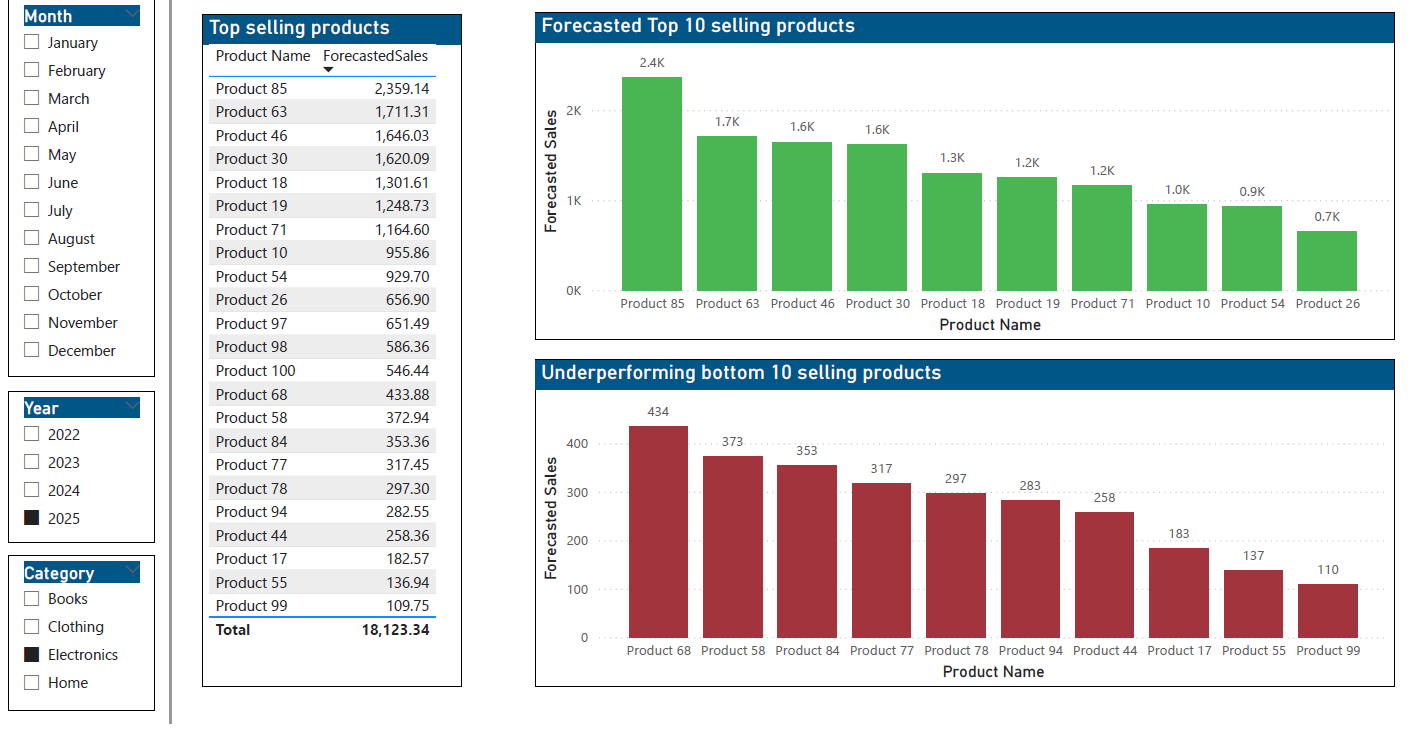

The dashboard page shown, as its layout file describes it:
{"tool":"powerbi","page":{"name":"Product Analysis","canvas":[1280,720],"ordinal":2},"visuals":[{"type":"shape","title":"Forecasting using Power BI","box":[0,0,1280.8,58.3],"z":0},{"type":"shape","box":[0,58.3,1280.8,14.6],"z":1000},{"type":"shape","box":[142.5,72.9,30.8,647.7],"z":2000},{"type":"slicer","fields":{"Values":["DateTable.Date.Variation.Date Hierarchy.Month"]},"box":[13,72.9,131.2,338.4],"z":3000},{"type":"slicer","fields":{"Values":["DateTable.Year"]},"box":[13,422.6,131.2,136],"z":4000},{"type":"slicer","fields":{"Values":["Products.Category"]},"box":[13,570,131.2,139.3],"z":6000},{"type":"columnChart","title":"Forecasted Top 10 selling products","fields":{"Category":["Products.ProductName"],"Y":["Sales.ForecastedSales"]},"box":[483.1,85.3,767.5,293.1],"z":7000},{"type":"columnChart","title":"Underperforming bottom 10 selling products","fields":{"Category":["Products.ProductName"],"Y":["Sales.ForecastedSales"]},"box":[483.1,394.6,767.5,293.1],"z":8000},{"type":"tableEx","title":"Top selling products","fields":{"Values":["Products.ProductName","Sales.ForecastedSales"]},"box":[186.2,87.4,231.5,600.7],"z":9000}]}

Visuals, with their boxes on the page's 1280x720 design canvas (x1, y1, x2, y2). These are canvas units, not pixel positions in the 1408x733 screenshot, which may show the page scaled, cropped or inside an application window:
"Forecasting using Power BI" shape: <bbox>0, 0, 1281, 58</bbox>
shape: <bbox>0, 58, 1281, 73</bbox>
shape: <bbox>142, 73, 173, 721</bbox>
slicer - DateTable.Date.Variation.Date Hierarchy.Month: <bbox>13, 73, 144, 411</bbox>
slicer - DateTable.Year: <bbox>13, 423, 144, 559</bbox>
slicer - Products.Category: <bbox>13, 570, 144, 709</bbox>
"Forecasted Top 10 selling products" columnChart: <bbox>483, 85, 1251, 378</bbox>
"Underperforming bottom 10 selling products" columnChart: <bbox>483, 395, 1251, 688</bbox>
"Top selling products" tableEx: <bbox>186, 87, 418, 688</bbox>
